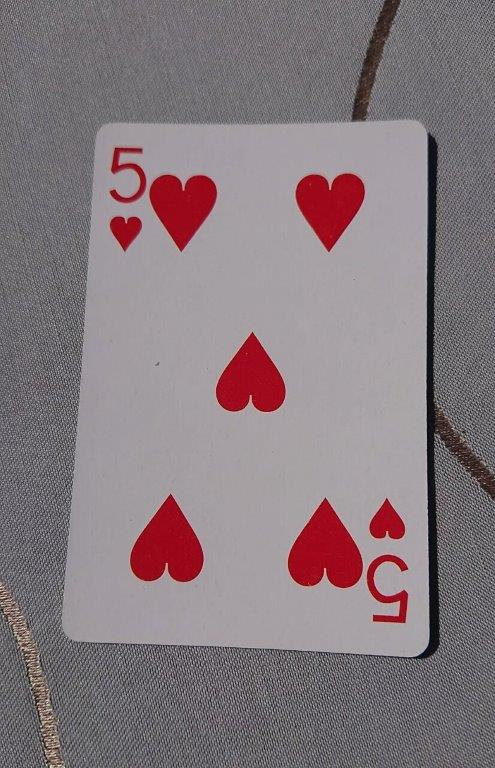5H: (63, 121, 431, 659)
